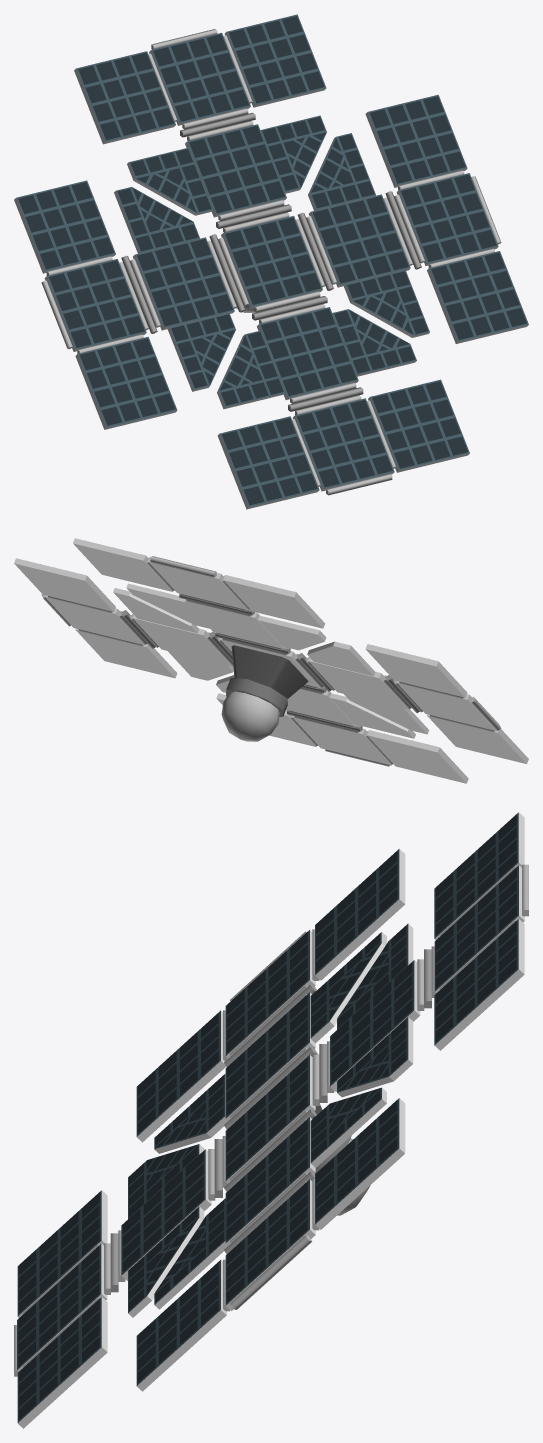
File: antenna_007.fbx
3 renders of one model, top to bottom at view 1: azimuth 30°, elevation 25°; view 2: azimuth 150°, elevation 25°; view 3: azimuth 270°, elevation 25°, orthographic. The views are drawn at different scales.
Parts seen in each view (by area): view 1: antenna_007; view 2: antenna_007; view 3: antenna_007.
Boxes of the visible parts, bbox=[...] form: antenna_007: bbox=[14, 14, 528, 509]; antenna_007: bbox=[14, 538, 528, 783]; antenna_007: bbox=[14, 812, 528, 1428].
Size of the model in its own units: 1245 by 881 by 881.
